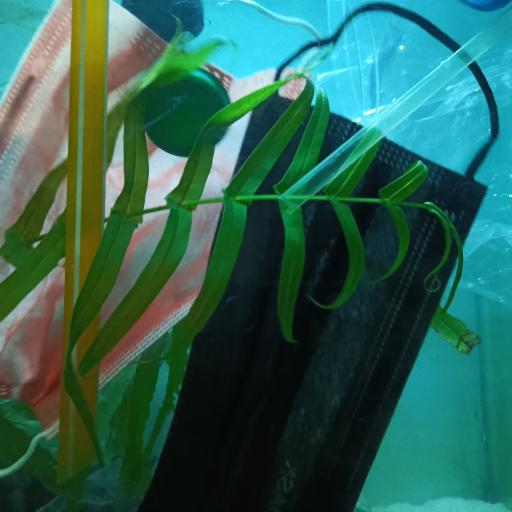bottle_cap: (142, 68, 234, 156), (118, 0, 203, 44)
mask: (143, 0, 502, 512), (0, 0, 313, 442)
plastic_bag: (216, 1, 512, 307)
plastic_cup: (320, 0, 512, 122)
plastic_straw: (284, 0, 512, 210), (61, 0, 107, 477)
